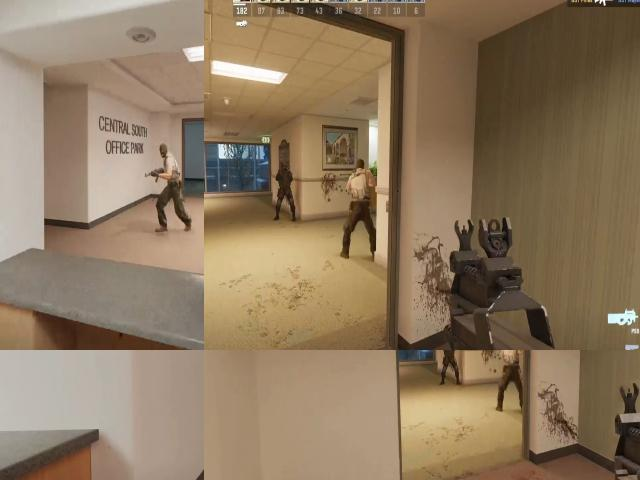CT: (277, 166, 293, 196), (441, 350, 457, 360)
CT-Head: (281, 162, 287, 175)
T: (156, 140, 184, 204), (343, 168, 376, 204), (497, 350, 524, 369)
T-Head: (160, 144, 172, 160)
